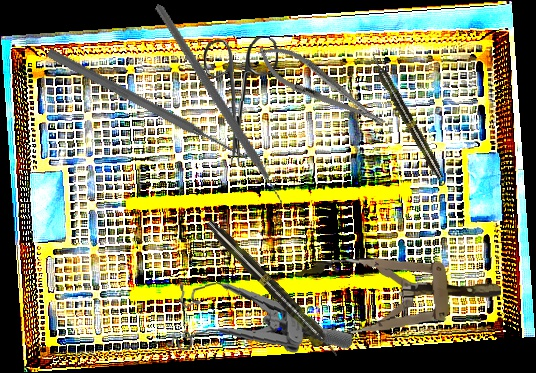Chopper: (94, 3, 340, 222)
Handpiece: (202, 216, 344, 361), (367, 51, 447, 182)
Iris Scissors: (200, 35, 279, 167)
Needle Holder: (250, 35, 393, 140)
Pusher: (44, 46, 253, 166)
Speculum: (289, 248, 504, 349), (160, 268, 355, 365)
